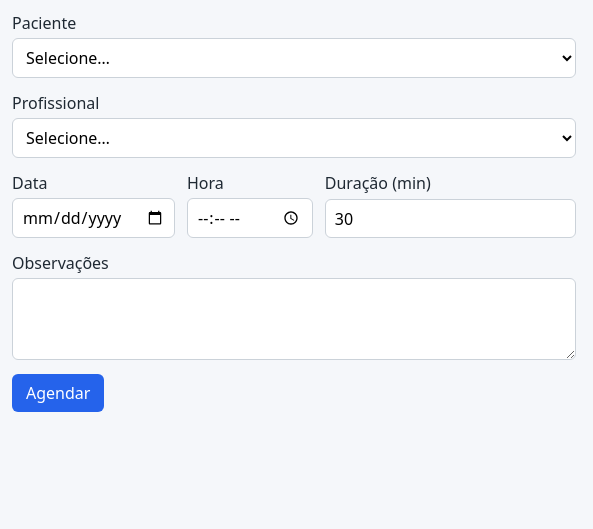
Test: AppointmentForm shows the error the API sends back › lists every message when the API rejects the payload with several (400)
This screenshot has width=593, height=529.
Select "Paciente Teste 11" in the dropdown labelled "Paciente" at (294, 58), box [12,38,576,78]
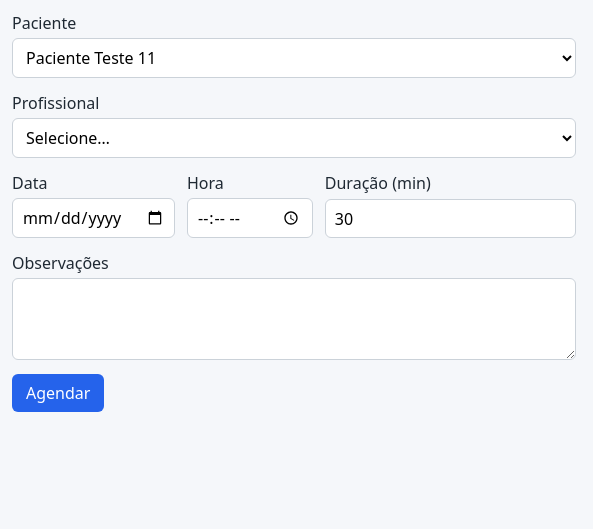
Select "Profissional Teste A — Clínica geral" in the dropdown labelled "Profissional" at (294, 138), box [12,118,576,158]
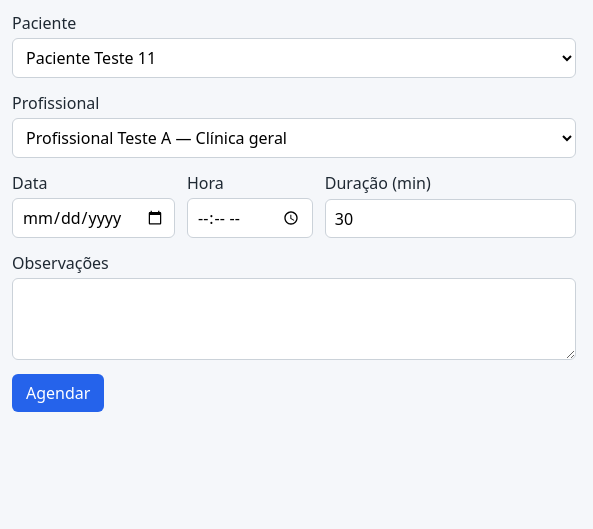
Type "2026-11-19" into the date field labelled "Data" at (94, 218), box [12,198,175,238]
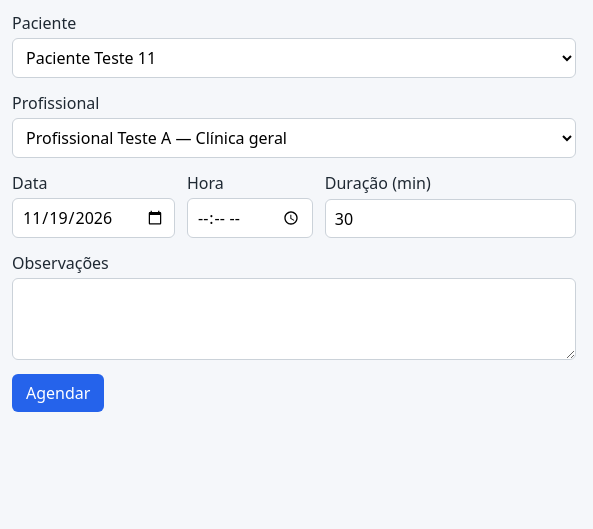
Type "09:40" into the time field labelled "Hora" at (250, 218), box [187,198,313,238]
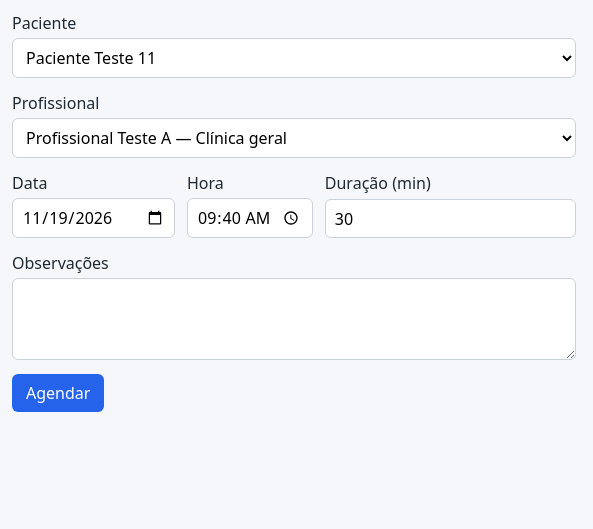
Click the button "Agendar" at (58, 393), box [12,374,104,412]
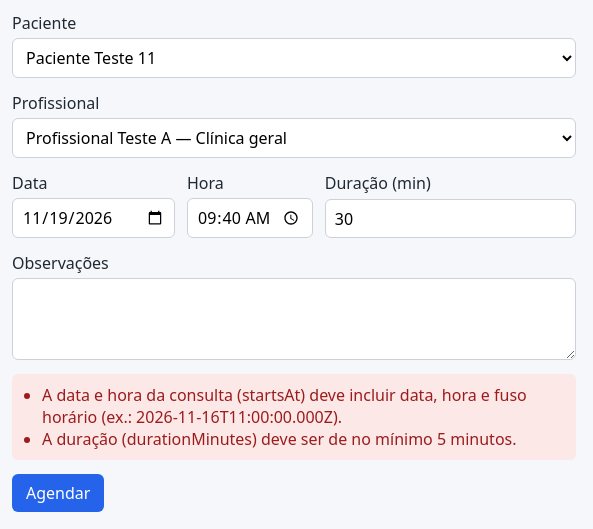
Now the list items read "A data e hora da consulta (startsAt) deve incluir data, hora e fuso horário (ex.: 2026-11-16T11:00:00.000Z).", "A duração (durationMinutes) deve ser de no mínimo 5 minutos.", in this order, box [42,384,564,428]; [42,428,564,450]
